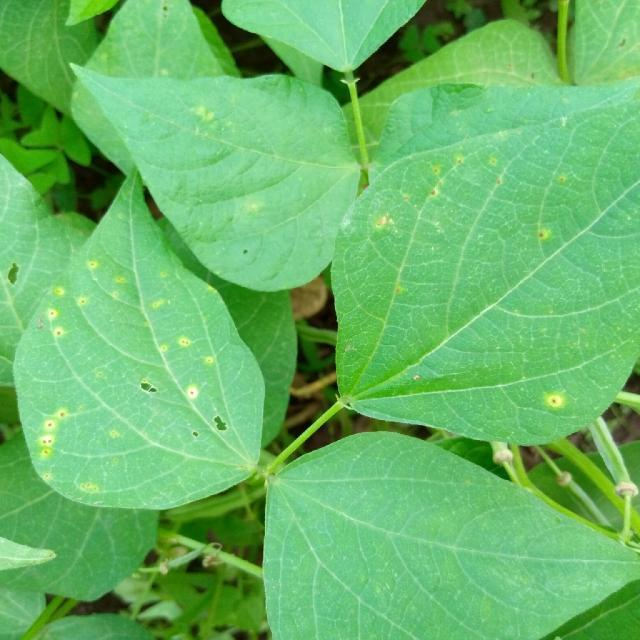hawar: (361, 153, 531, 235), (131, 372, 241, 452)
sehat: (315, 472, 520, 640), (168, 92, 339, 237), (410, 280, 587, 359)
